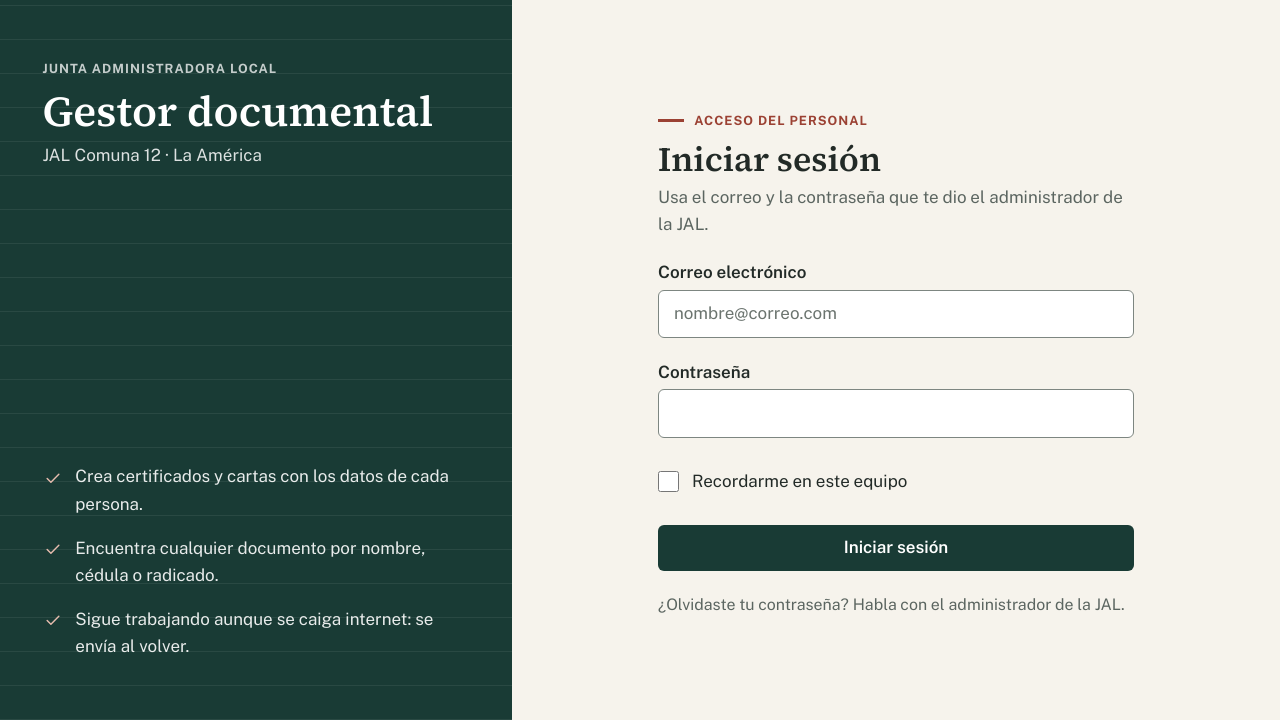
LoginPage — manejo de errores › muestra el mensaje del servidor cuando la cuenta está bloqueada (423)
In the field labelled "Correo electrónico": (896, 314) [658,290,1134,338], type "auxiliar@jal.gov.co"
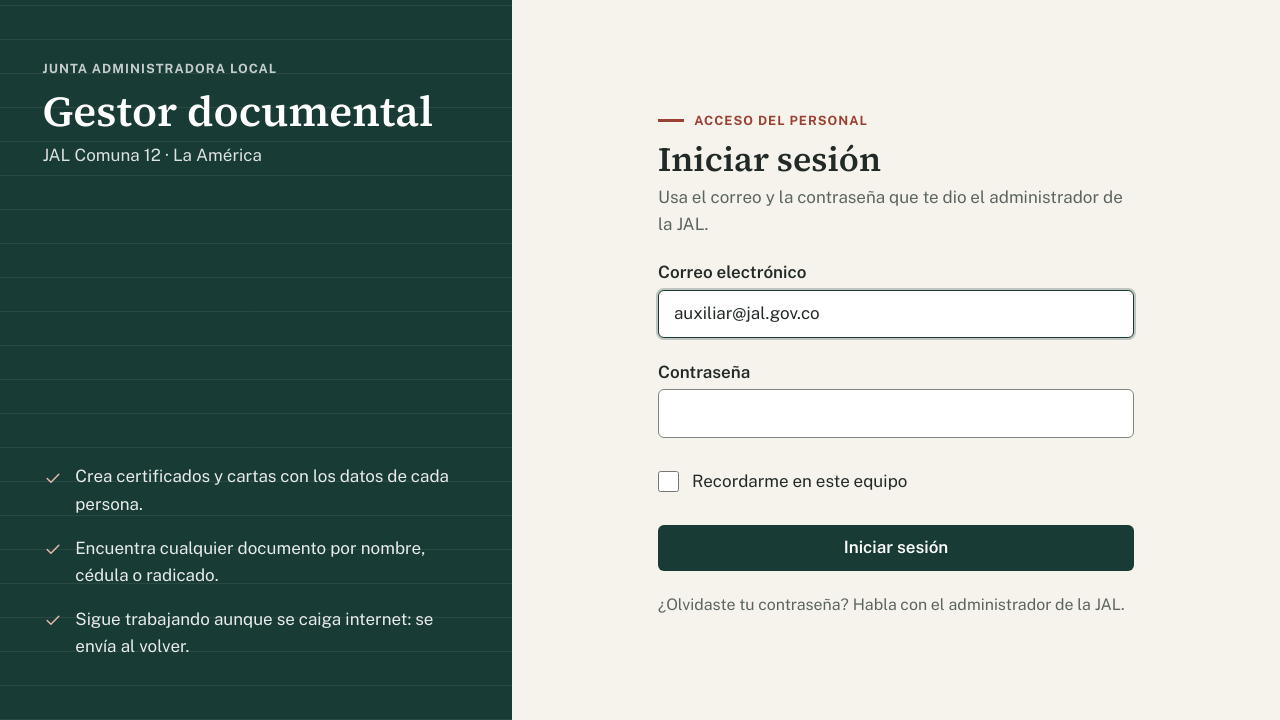
In the password field labelled "Contraseña": (896, 414) [658,389,1134,438], type "secreto123"
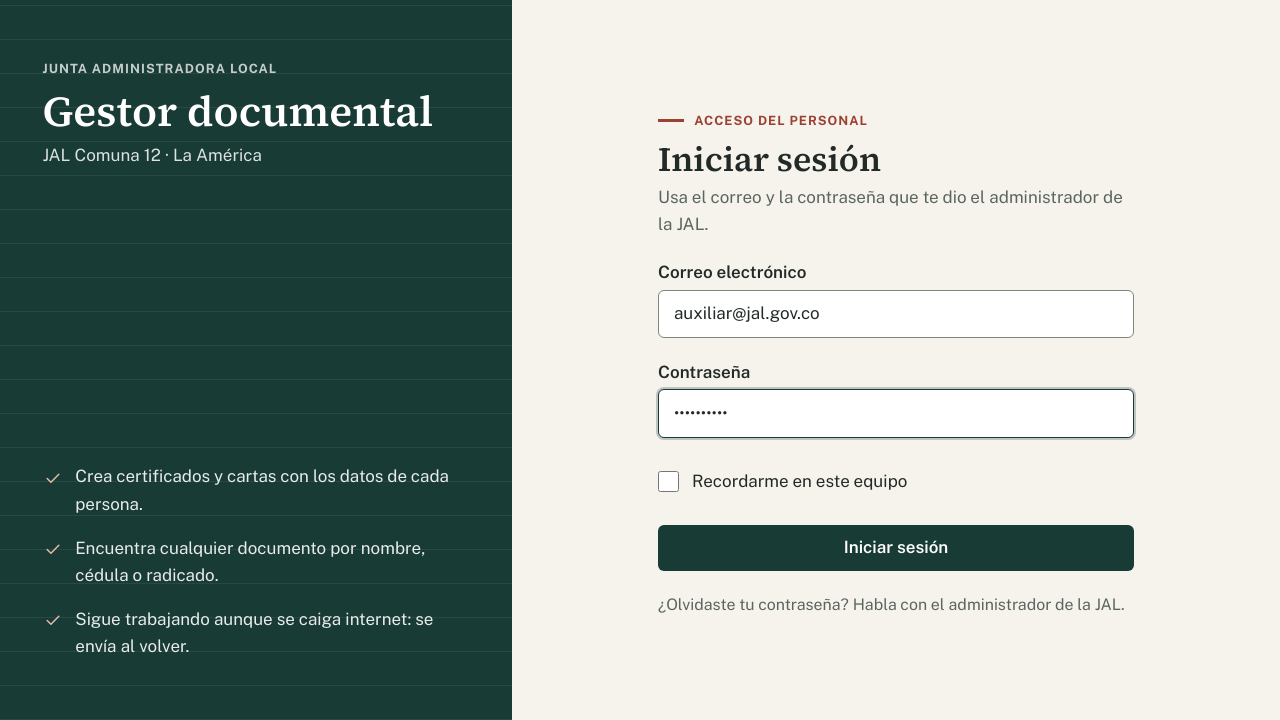
Click the button "Iniciar sesión": (896, 548) [658,525,1134,571]
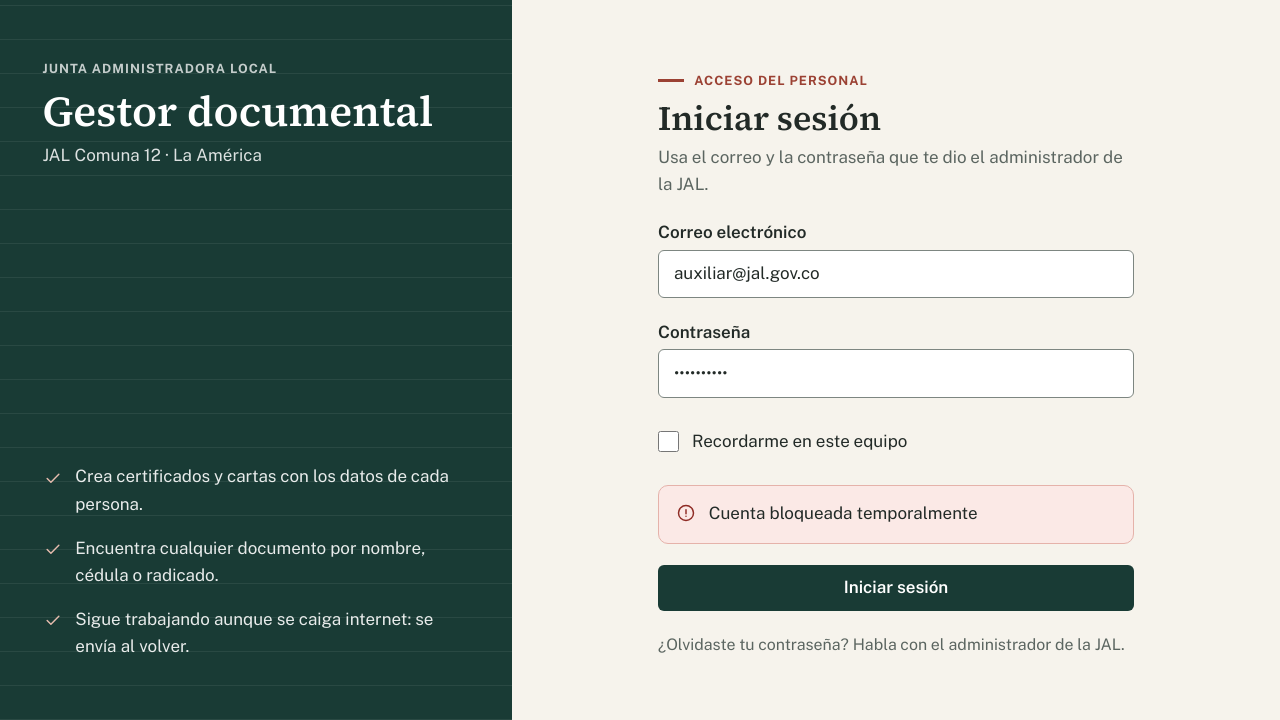
Expected: the message reads "Cuenta bloqueada temporalmente", [709,503,978,523]
